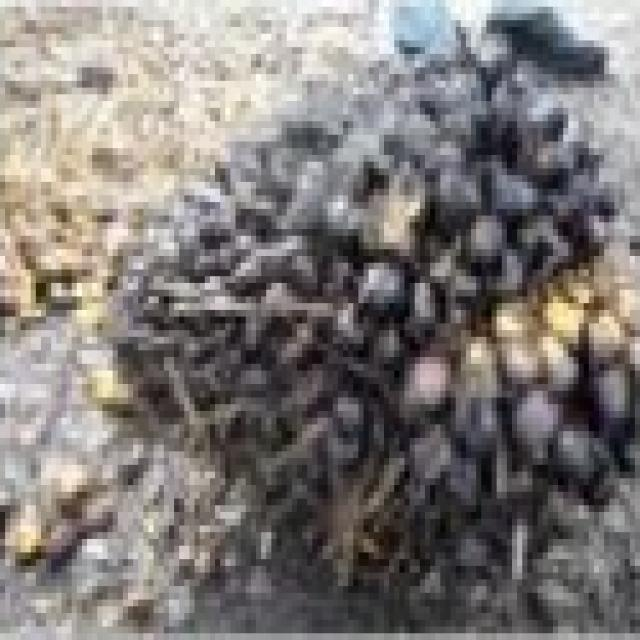FFB: (107, 67, 638, 592)
